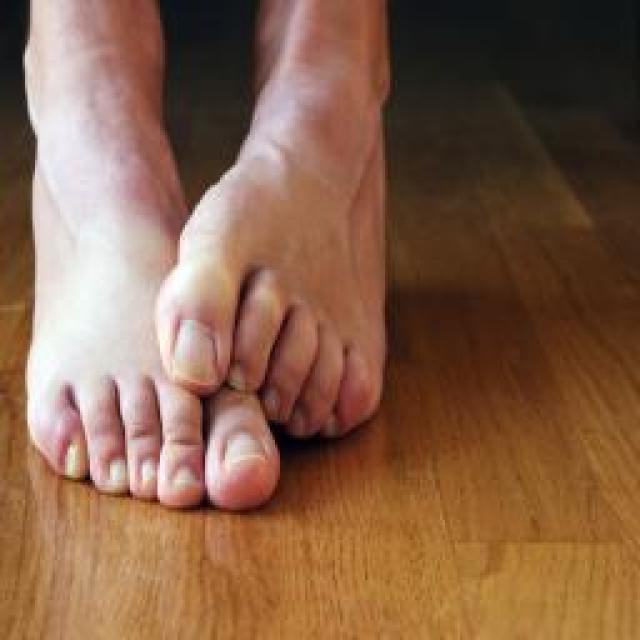No_Shoes: (0, 65, 276, 512), (156, 70, 417, 398)
